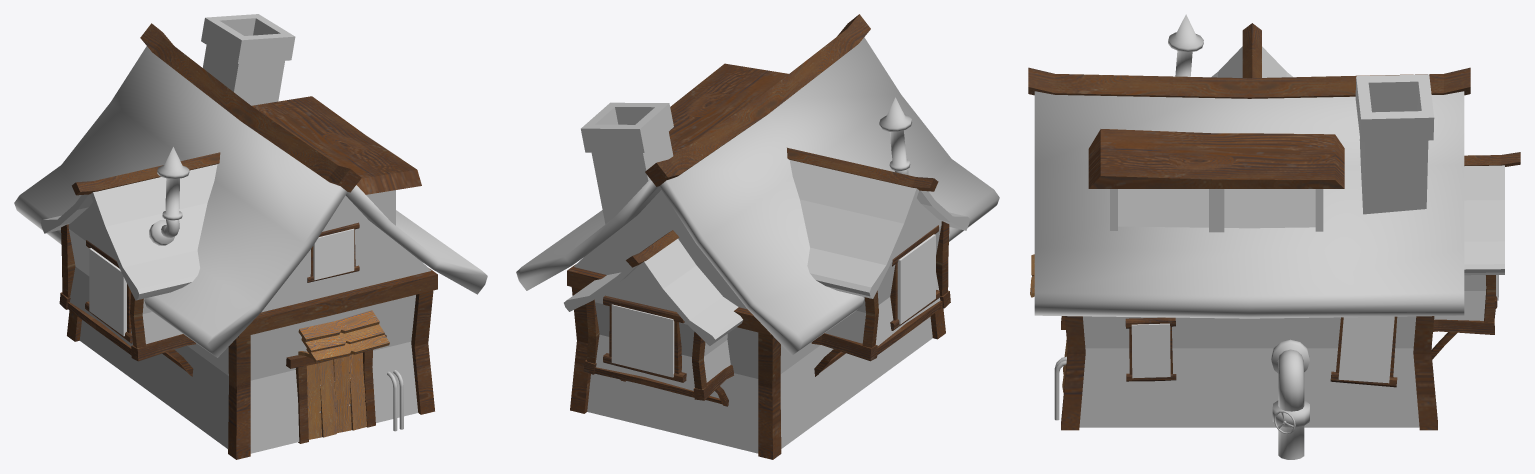
File: House.fbx
3 renders of one model, left to right at view 1: azimuth 30°, elevation 25°; view 2: azimuth 150°, elevation 25°; view 3: azimuth 270°, elevation 25°, orthographic. The views are drawn at different scales.
Visible parts, largest first — view 1: Cube.013, Cube.032, Cube.008, Cube.009, Cube.039, Cube.016, Cube.043, Cube.014, Cube.015, Cube.042, Square Window Cutter.003, Pipe Adapter.006 (+2 smaller); view 2: Cube.013, Cube.032, Cube.008, Cube.040, Cube.016, Cube.009, Cube.015, Cube.039, Cube.014, Square Window Cutter.004, Square Window Cutter.003, Pipe Adapter.006 (+1 smaller); view 3: Cube.013, Cube.008, Cube.039, Cube.016, Cube.015, Cube.040, Cube.009, Pipe Adapter.007, Square Window Cutter.001, Square Window Cutter.002, Cube.032, Pipe Adapter.006.
Part boxes in pixels (x1,y1,x2,y2): Cube.013: (14, 46, 487, 357); Cube.032: (41, 152, 220, 376); Cube.008: (79, 295, 418, 453); Cube.009: (67, 268, 437, 459); Cube.039: (252, 96, 421, 225); Cube.016: (201, 14, 295, 105); Cube.043: (286, 334, 386, 443); Cube.014: (261, 195, 431, 312); Cube.015: (140, 23, 361, 192); Cube.042: (298, 310, 389, 362); Square Window Cutter.003: (89, 248, 126, 336); Pipe Adapter.006: (149, 147, 189, 245); Cube.013: (516, 37, 999, 355); Cube.032: (787, 147, 969, 376); Cube.008: (587, 316, 932, 453); Cube.040: (564, 230, 742, 406); Cube.016: (581, 102, 673, 224); Cube.009: (567, 264, 945, 459); Cube.015: (645, 14, 870, 186); Cube.039: (669, 63, 788, 155); Cube.014: (574, 190, 747, 309); Square Window Cutter.004: (611, 304, 674, 377); Square Window Cutter.003: (897, 234, 935, 324); Pipe Adapter.006: (879, 97, 912, 175); Cube.013: (1034, 91, 1464, 318); Cube.008: (1079, 316, 1431, 427); Cube.039: (1088, 129, 1344, 232); Cube.016: (1355, 74, 1434, 214); Cube.015: (1028, 67, 1470, 98); Cube.040: (1431, 152, 1520, 359); Cube.009: (1061, 316, 1437, 430); Pipe Adapter.007: (1271, 339, 1309, 459); Square Window Cutter.001: (1338, 316, 1394, 383); Square Window Cutter.002: (1131, 323, 1170, 378); Cube.032: (1211, 23, 1292, 78); Pipe Adapter.006: (1168, 14, 1203, 76).
Bounding box in the file's own units: 663 × 607 × 809.
